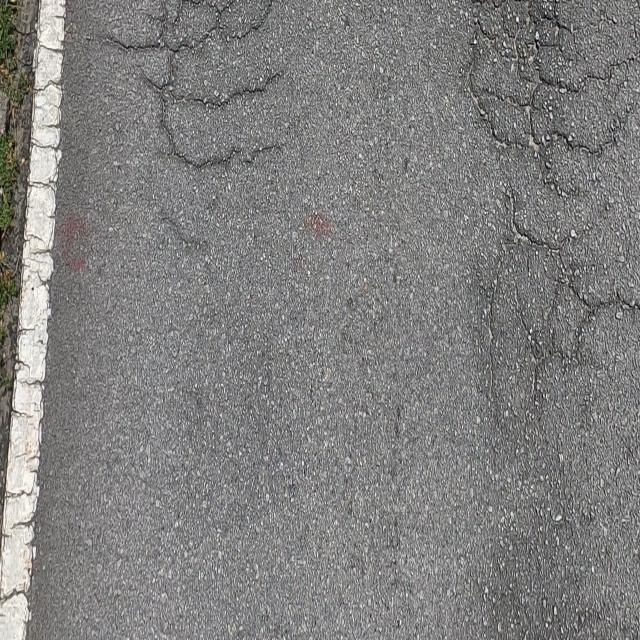Retak-Buaya: (465, 3, 638, 424), (89, 3, 286, 171)
